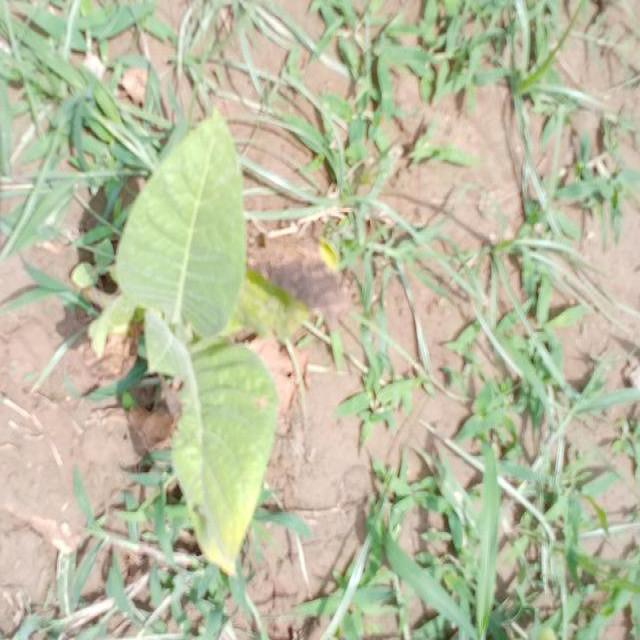crop: (98, 111, 276, 577)
